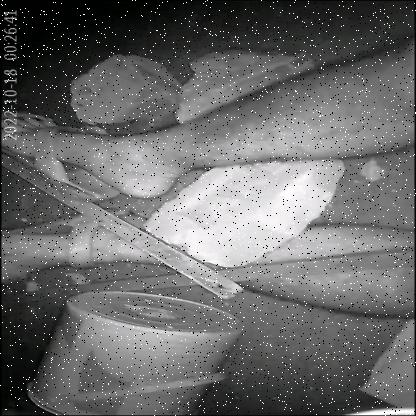leg: (10, 45, 416, 205)
